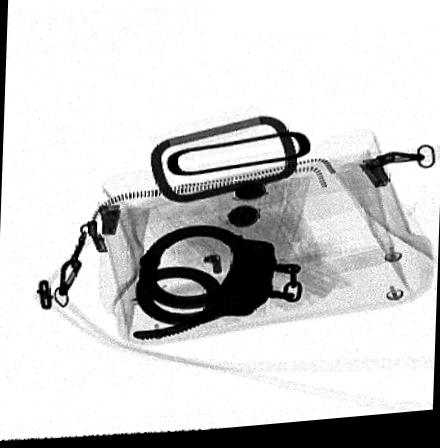HandCuffs: (132, 228, 304, 343)
